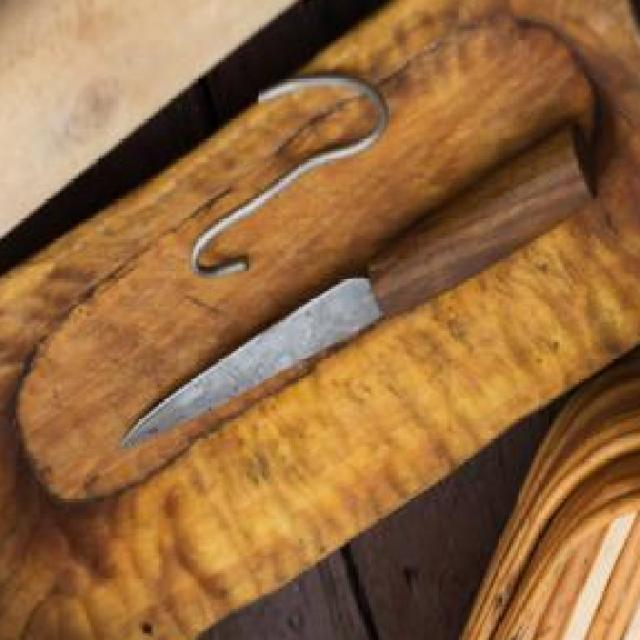knife: (115, 116, 598, 456)
